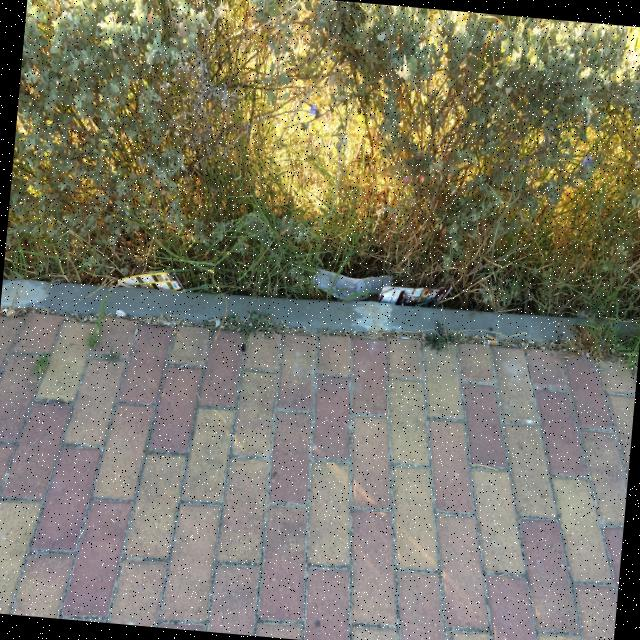Cigarette: (486, 333, 495, 340), (7, 309, 15, 316), (487, 340, 497, 343)
Magazine paper: (375, 286, 451, 307), (109, 272, 186, 291)
Normal paper: (312, 268, 393, 302)
